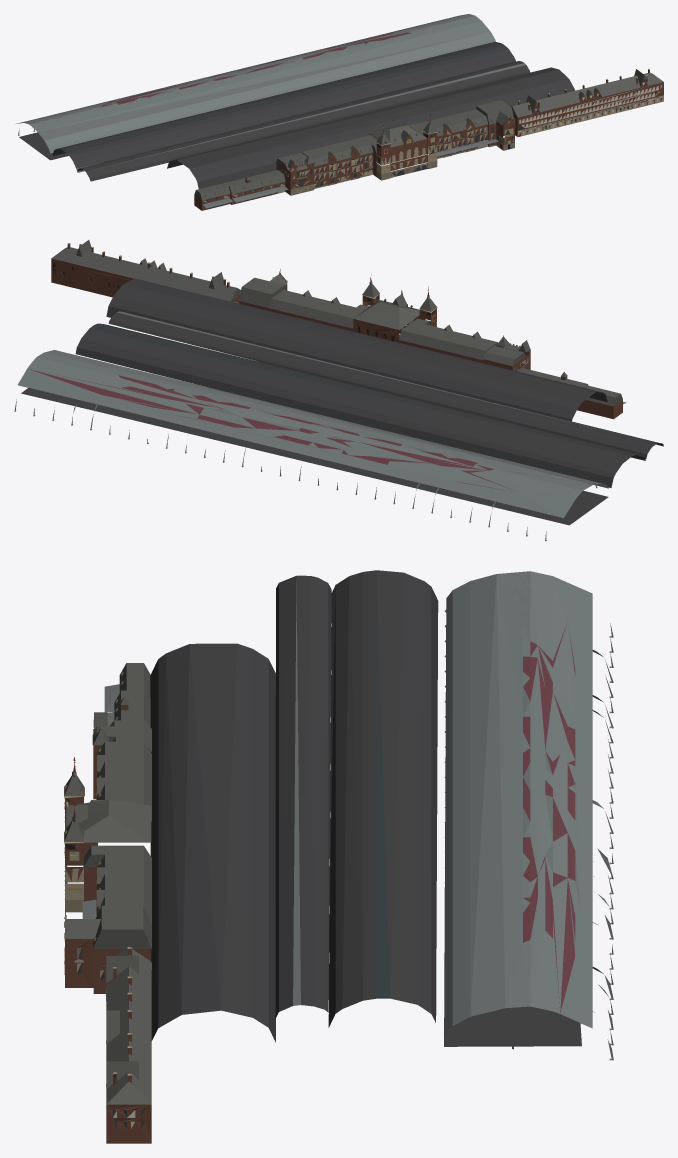
Rendered from centraal-station.lod2.glb.
3 renders of one model, top to bottom at view 1: azimuth 30°, elevation 25°; view 2: azimuth 150°, elevation 25°; view 3: azimuth 270°, elevation 25°, orthographic. The views are drawn at different scales.
Parts seen in each view (by area): view 1: lod2; view 2: lod2; view 3: lod2.
Part boxes in pixels (x1=…): lod2: x1=16, y1=14, x2=663, y2=210; lod2: x1=14, y1=240, x2=663, y2=541; lod2: x1=64, y1=570, x2=613, y2=1143.
Size of the model in its own units: 432 by 41.19 by 193.
